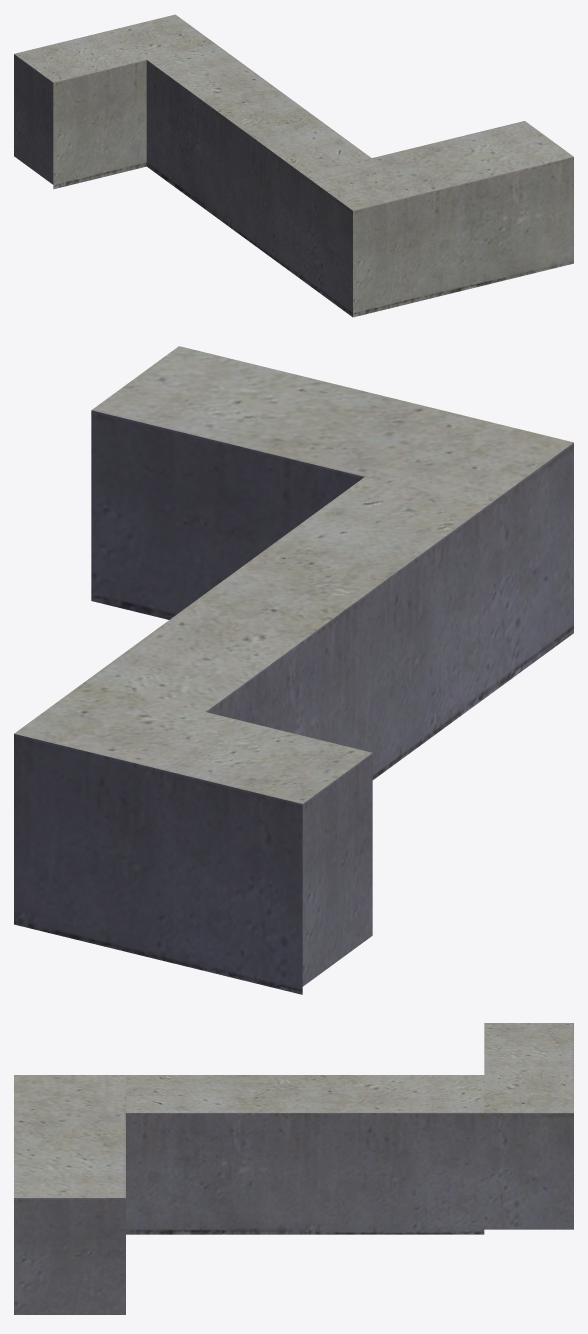
3 views of the same model, one above another, from view 1: azimuth 30°, elevation 25°; view 2: azimuth 150°, elevation 25°; view 3: azimuth 270°, elevation 25° (orthographic). The views are drawn at different scales.
Visible parts, largest first — view 1: Joint_0_Object_1, Joint_0_Object_0; view 2: Joint_0_Object_1, Joint_0_Object_0; view 3: Joint_0_Object_1, Joint_0_Object_0.
Boxes of the visible parts, x1,y1,x2,y2 form: Joint_0_Object_1: (14,54,573,317); Joint_0_Object_0: (14,14,573,210); Joint_0_Object_1: (14,410,573,994); Joint_0_Object_0: (14,346,573,803); Joint_0_Object_1: (14,1113,573,1314); Joint_0_Object_0: (14,1023,573,1197).
Size of the model in its own units: 1850 by 600 by 2500.
2 materials, 2 textured.
